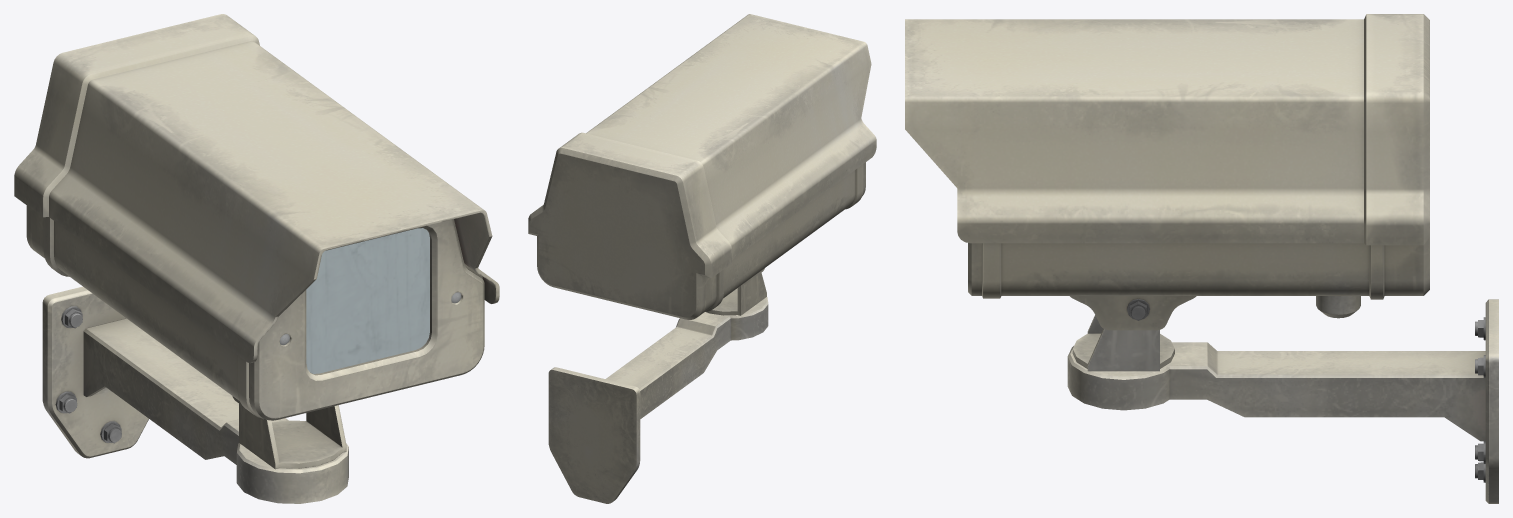
The model's file is Surveillance_Camera_01.fbx.
3 renders of one model, left to right at view 1: azimuth 30°, elevation 25°; view 2: azimuth 150°, elevation 25°; view 3: azimuth 270°, elevation 25°, orthographic. The views are drawn at different scales.
Parts seen in each view (by area): view 1: Camera_01_Body, Surveillance_Camera_01, Camera_01_Arm; view 2: Camera_01_Body, Surveillance_Camera_01, Camera_01_Arm; view 3: Camera_01_Body, Surveillance_Camera_01, Camera_01_Arm.
Boxes of the visible parts, x1,y1,x2,y2 form: Camera_01_Body: (14,14,499,420); Surveillance_Camera_01: (42,286,348,503); Camera_01_Arm: (239,404,346,469); Camera_01_Body: (528,14,876,319); Surveillance_Camera_01: (548,297,768,503); Camera_01_Arm: (705,272,766,315); Camera_01_Body: (905,14,1429,330); Surveillance_Camera_01: (1067,299,1498,503); Camera_01_Arm: (1072,299,1174,371).
Size of the model in its own units: 16.26 by 27.07 by 33.06.
